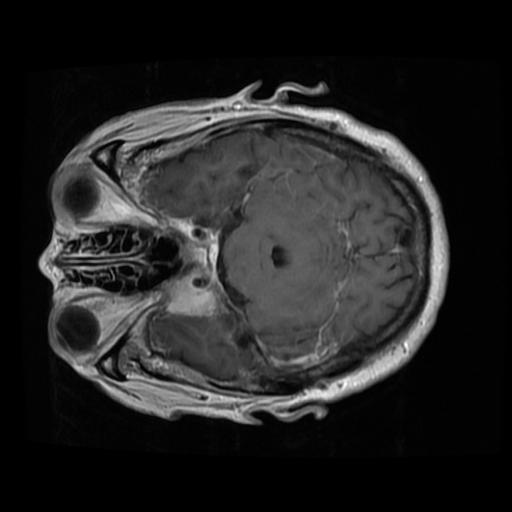meningioma: (179, 238, 207, 267)
